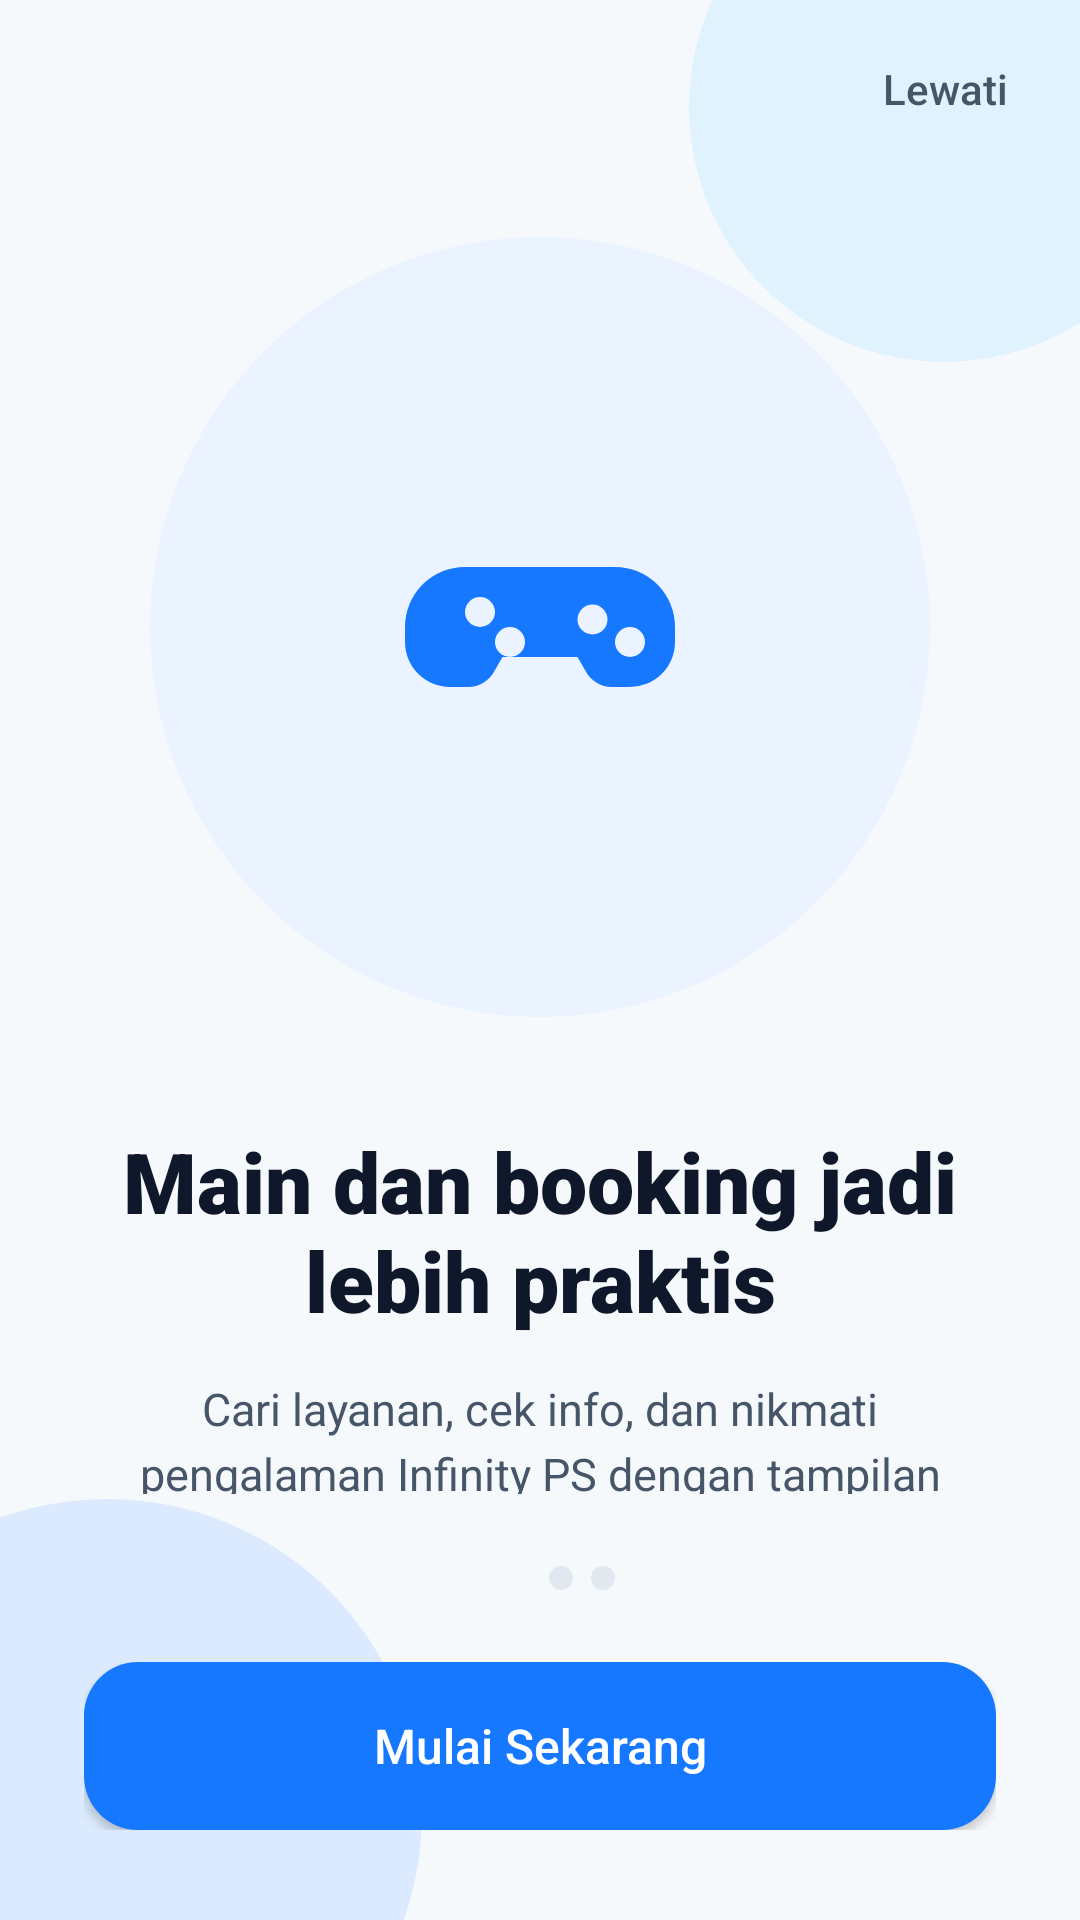

Icons on this 1080*1920 Android screen, each with its box as {"left": x1, "top": y1, "right": x2, "bottom": y2}:
Onboarding illustration: {"left": 405, "top": 567, "right": 675, "bottom": 687}
